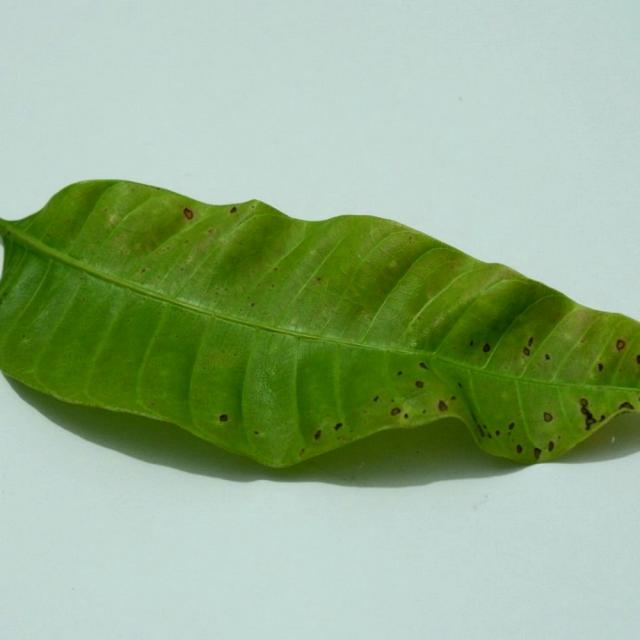Anthracnose: (479, 399, 554, 456), (382, 382, 450, 426), (579, 396, 621, 436), (309, 420, 349, 442), (579, 400, 599, 429), (517, 334, 539, 360), (476, 424, 486, 438)
Mango: (0, 180, 639, 474)
